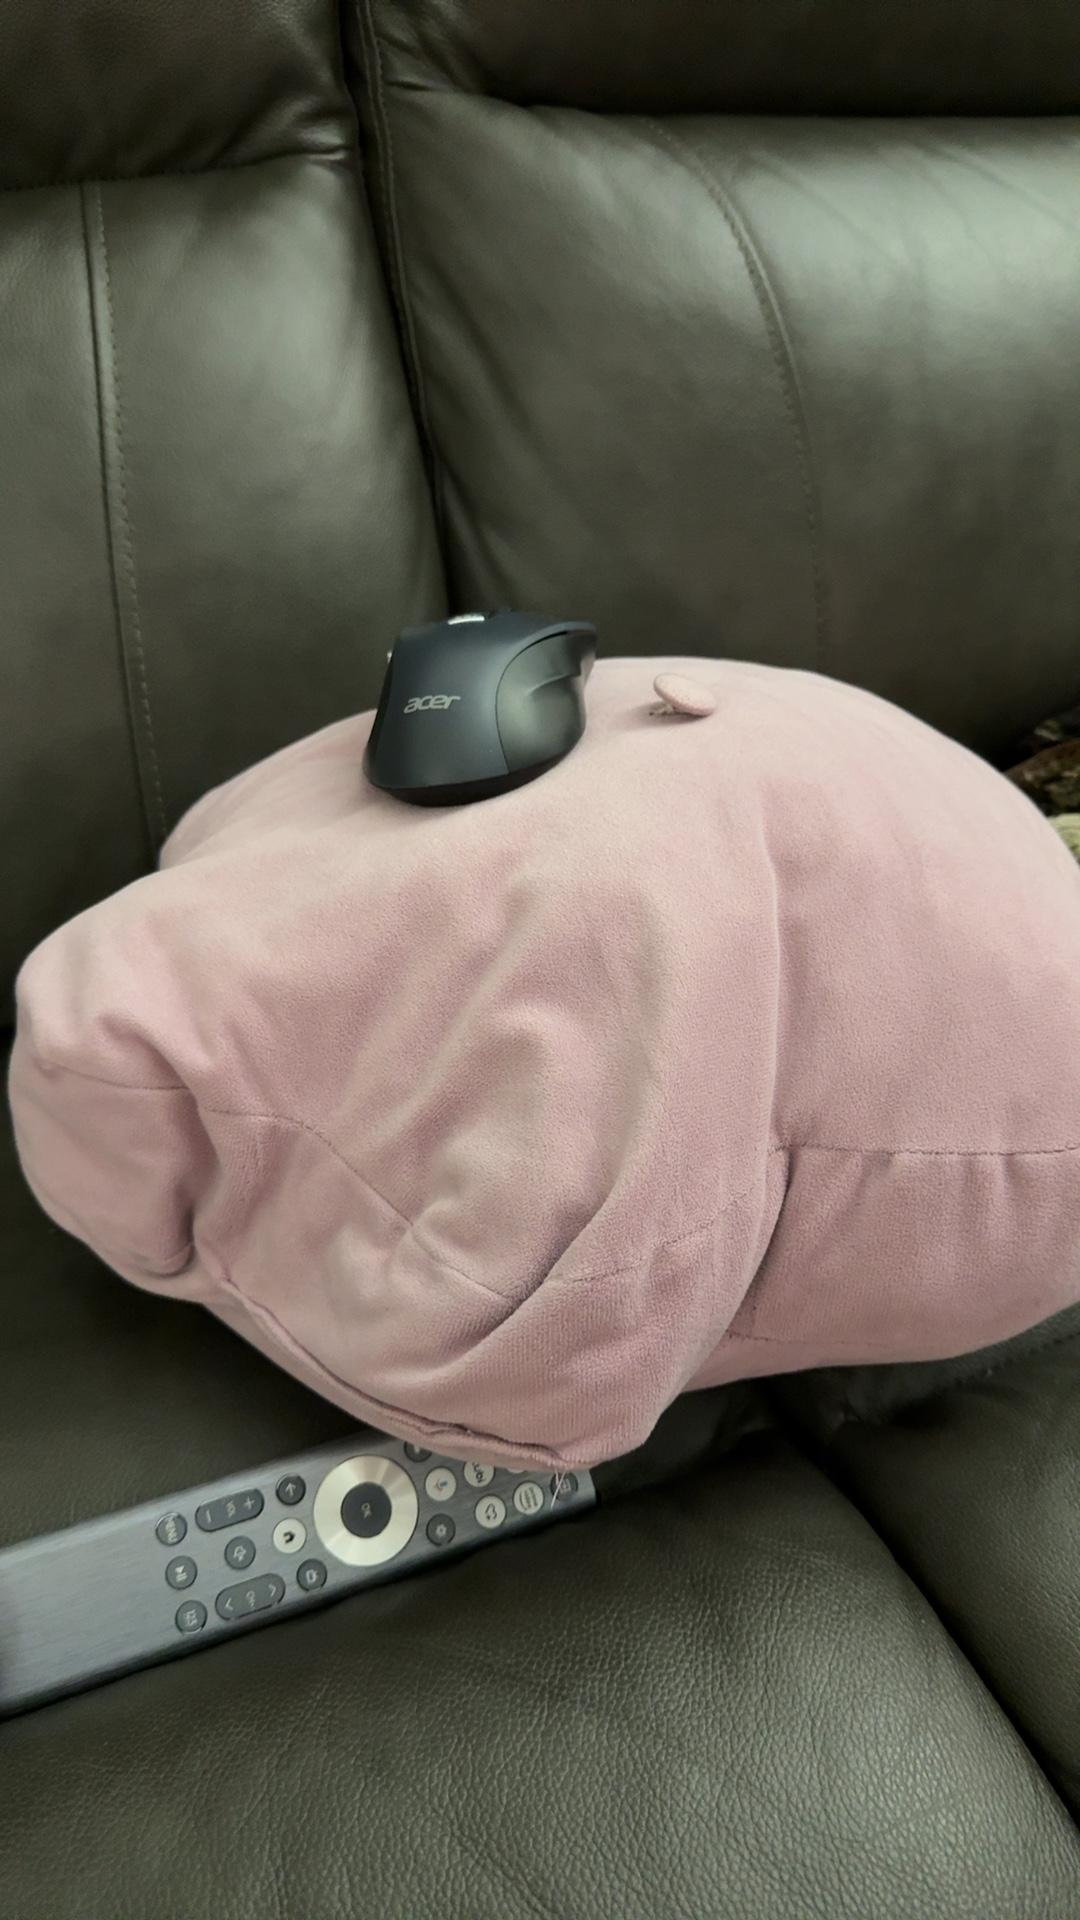Mouse: (365, 578, 597, 812)
